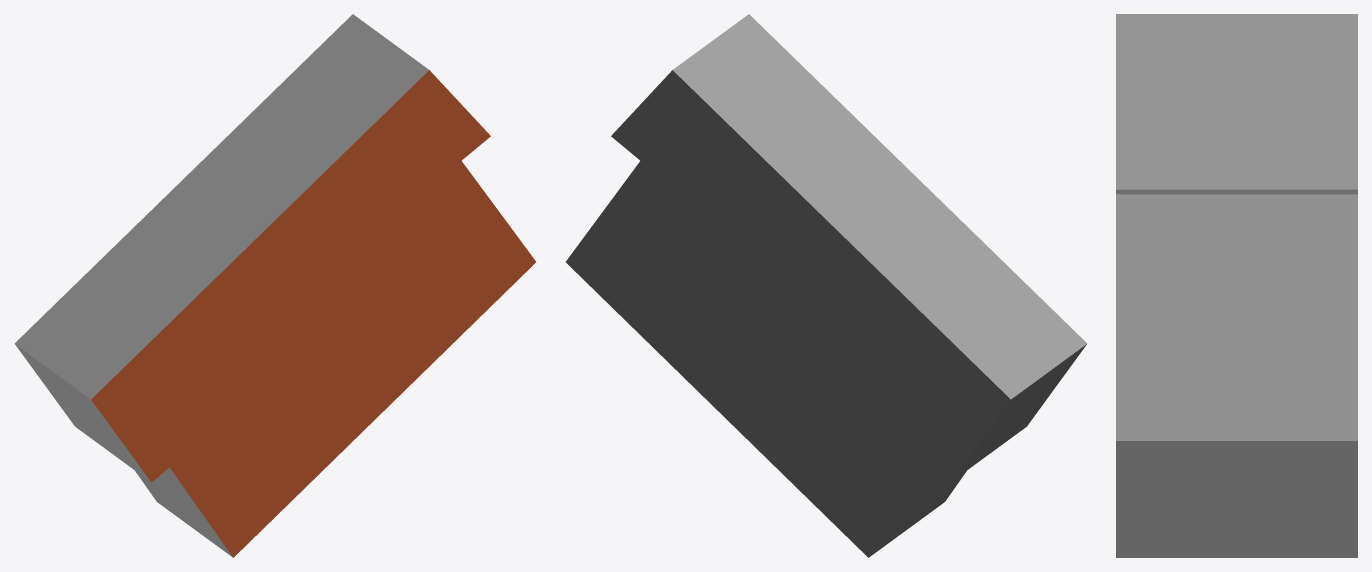
The model's file is construction_2771_assumed_A_Casa_h6m.obj.
3 views of the same model, side by side, from view 1: azimuth 30°, elevation 25°; view 2: azimuth 150°, elevation 25°; view 3: azimuth 270°, elevation 25° (orthographic). The views are drawn at different scales.
Visible parts, largest first — view 1: construction_2771_assumed_A_Casa; view 2: construction_2771_assumed_A_Casa; view 3: construction_2771_assumed_A_Casa.
Boxes of the visible parts, x1=… form: construction_2771_assumed_A_Casa: x1=14, y1=14, x2=535, y2=557; construction_2771_assumed_A_Casa: x1=566, y1=14, x2=1087, y2=557; construction_2771_assumed_A_Casa: x1=1116, y1=14, x2=1357, y2=557.
Bounding box in the file's own units: 20.16 × 19.03 × 6.
